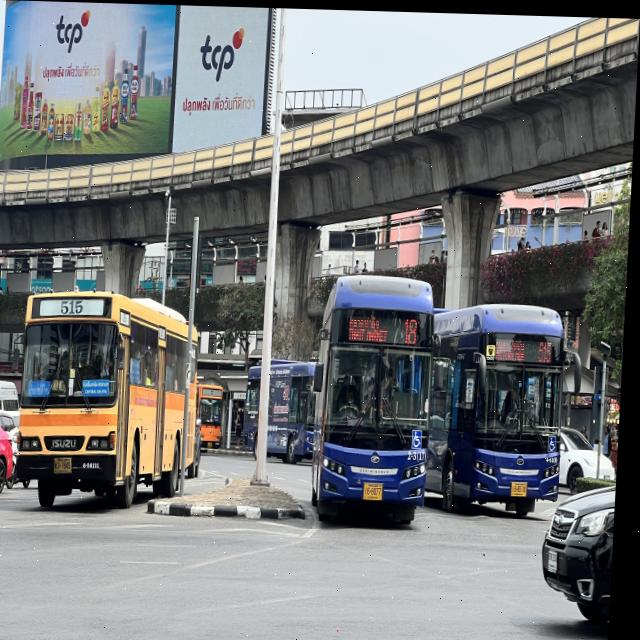BMTA-bus: (16, 290, 204, 509), (200, 380, 232, 450)
Bus Line Number: (58, 293, 91, 318), (403, 311, 425, 345), (540, 336, 558, 361), (213, 386, 219, 396)
Bus Side Number: (410, 445, 433, 461), (84, 457, 110, 471), (550, 451, 563, 463), (219, 439, 226, 445)
Destination Sign: (351, 306, 394, 344), (498, 333, 532, 362), (86, 377, 114, 396), (217, 413, 224, 420)
TSB-Bus: (318, 273, 438, 525), (430, 301, 569, 514), (250, 358, 328, 463)
